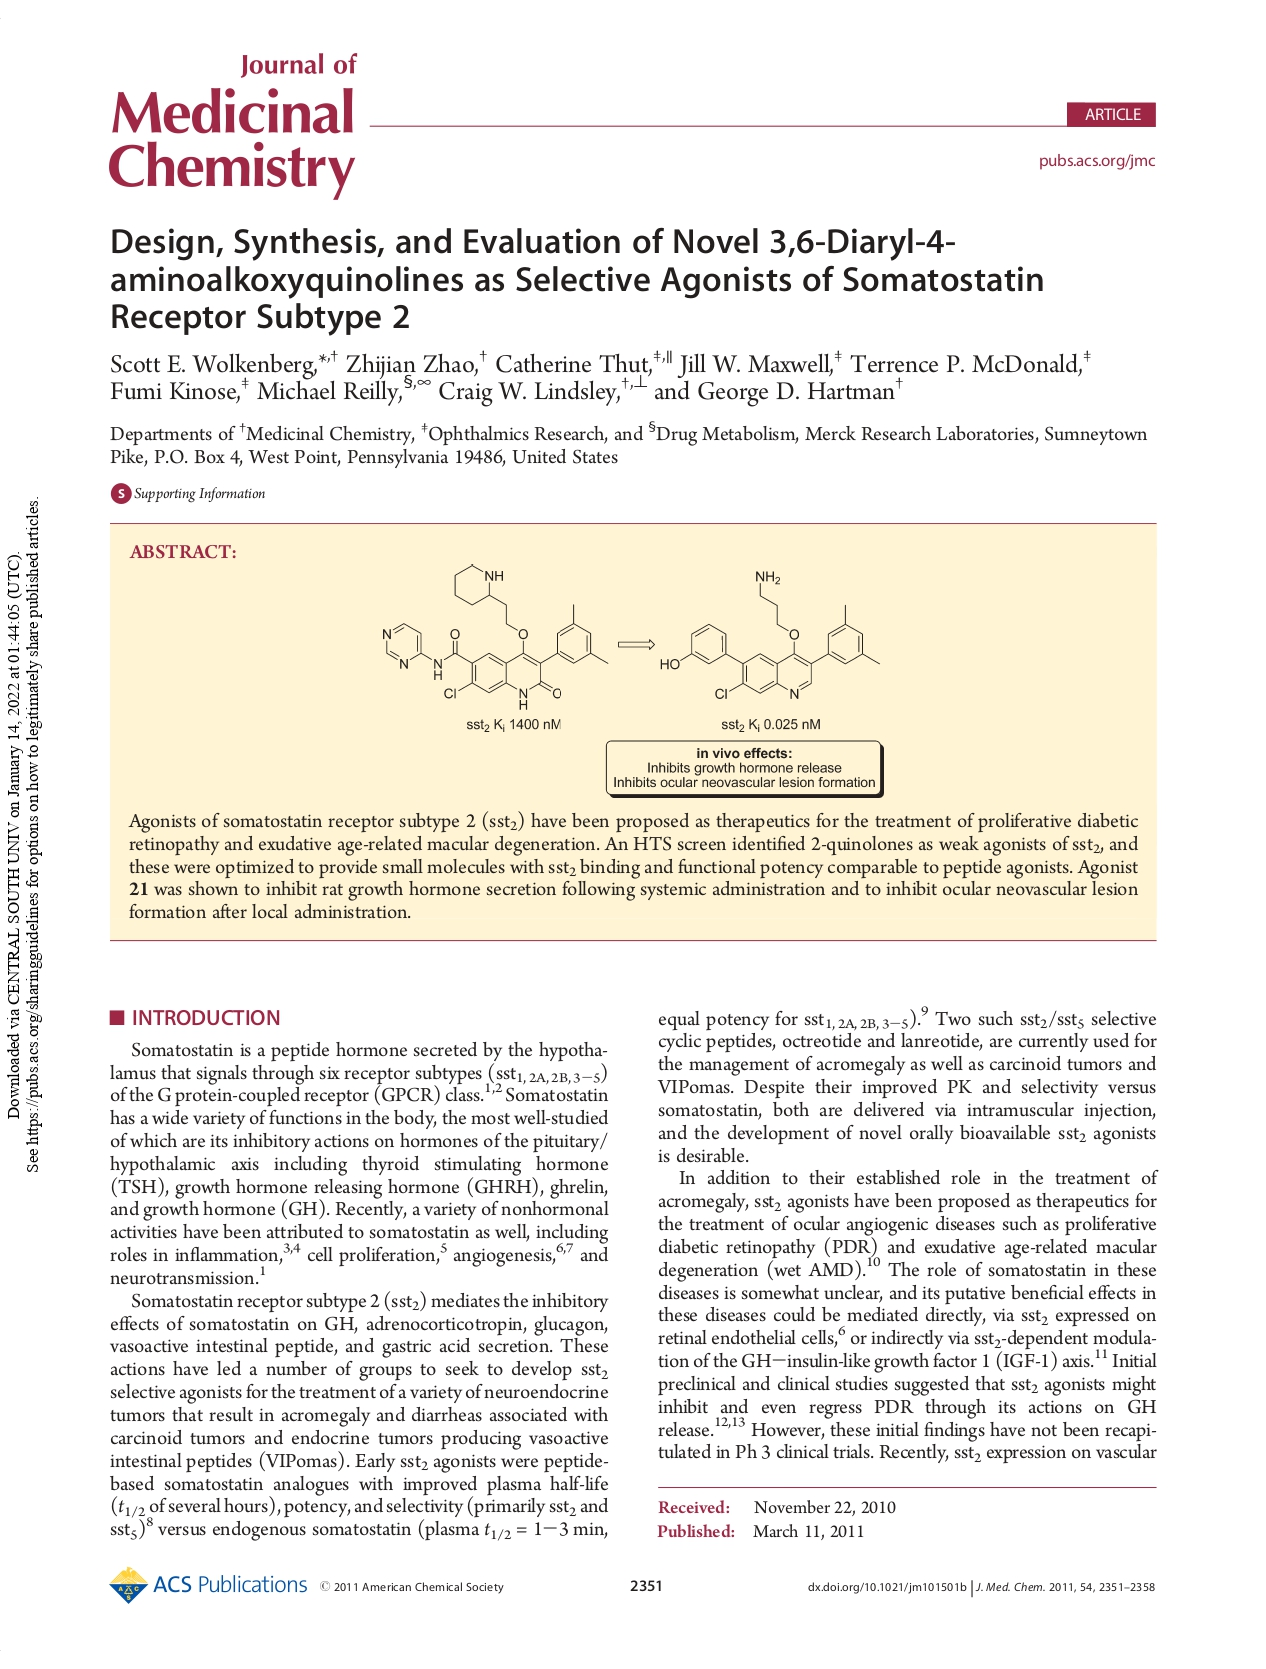exist_molecular: (382, 559, 614, 714), (660, 567, 882, 700)
